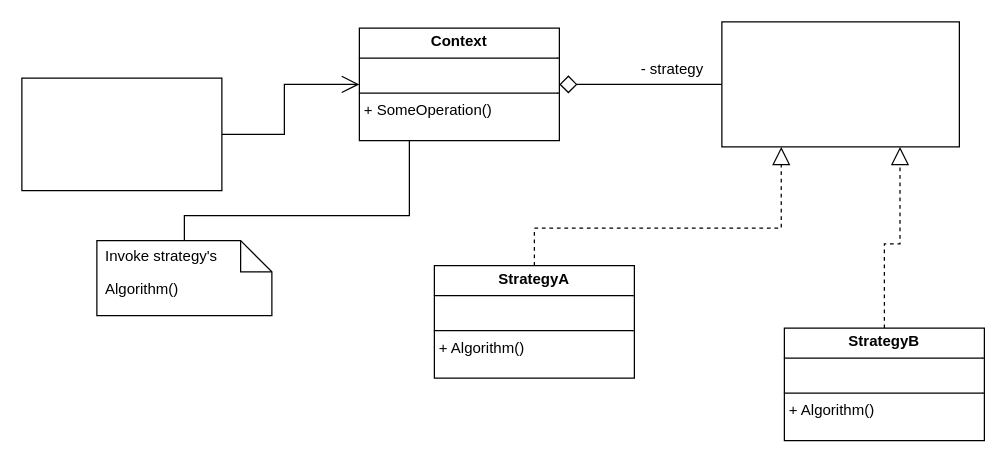
The diagram is 1006 pixels wide and 463 high, and some of its shapes have lost their labels. Each missing label, with the centre of its shape:
"<<Interface>> IStrategy + Algorithm()" goes at (x=840, y=84).
"Client" goes at (x=121, y=134).
